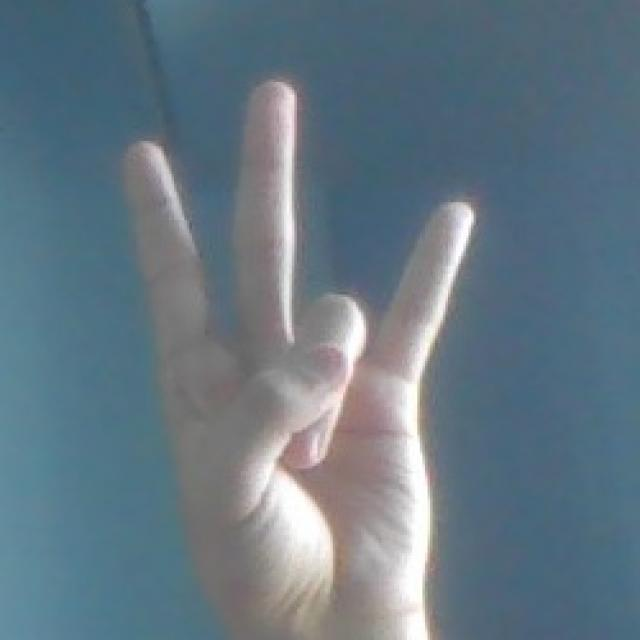Numeric-7: (95, 82, 483, 633)
